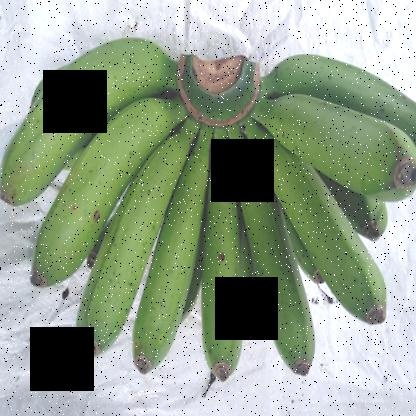unripe: (1, 25, 170, 197), (234, 167, 329, 392), (262, 89, 415, 204), (188, 140, 248, 402)
